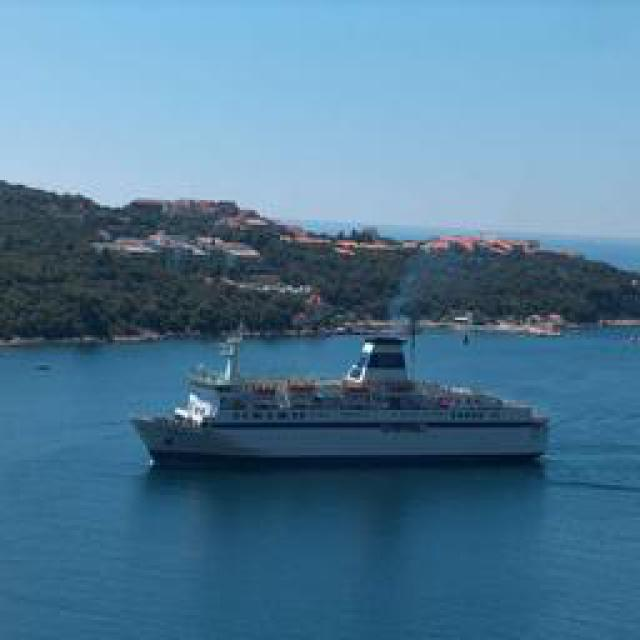Ship: (138, 330, 553, 465)
